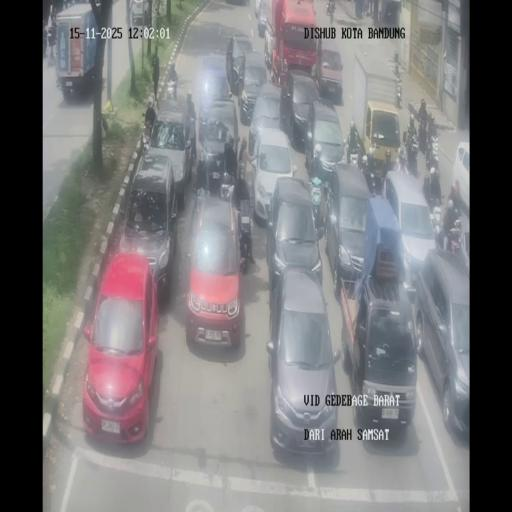car: (82, 252, 160, 442), (266, 269, 338, 459), (413, 250, 469, 442), (185, 193, 245, 351), (382, 170, 438, 297), (326, 162, 374, 294), (145, 100, 194, 206), (305, 94, 345, 180), (198, 57, 232, 135), (249, 85, 284, 160), (227, 34, 256, 94), (315, 46, 343, 104), (452, 142, 469, 222), (256, 0, 270, 38), (130, 0, 149, 26)
motorcycle: (308, 173, 326, 233), (238, 220, 254, 268), (366, 158, 386, 196), (346, 134, 365, 172), (444, 214, 462, 254), (403, 131, 419, 172), (430, 203, 445, 246), (218, 168, 236, 202), (425, 126, 439, 168), (187, 111, 197, 154), (417, 114, 428, 153), (142, 118, 154, 148), (165, 78, 177, 102), (393, 154, 405, 173), (43, 21, 49, 57), (326, 0, 335, 15), (362, 0, 369, 17)
truck: (53, 3, 103, 101), (268, 0, 319, 87)
